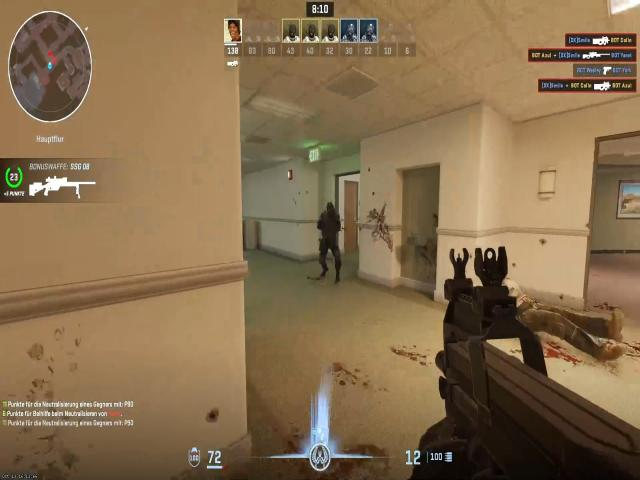CT: (319, 195, 342, 255)
CT-Head: (323, 198, 338, 218)
